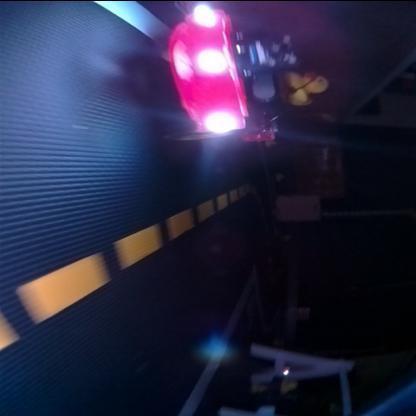Duckie: (292, 70, 327, 102)
Duckiebot: (154, 4, 300, 141)
